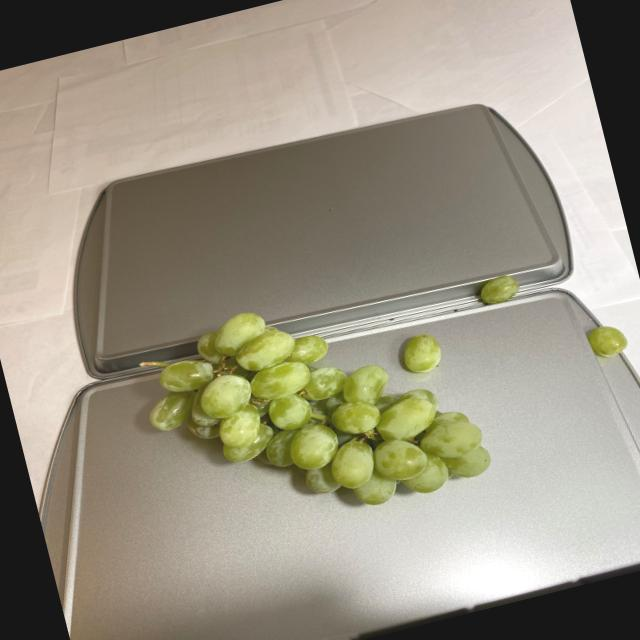grapes: (112, 249, 563, 562), (572, 314, 636, 376)
